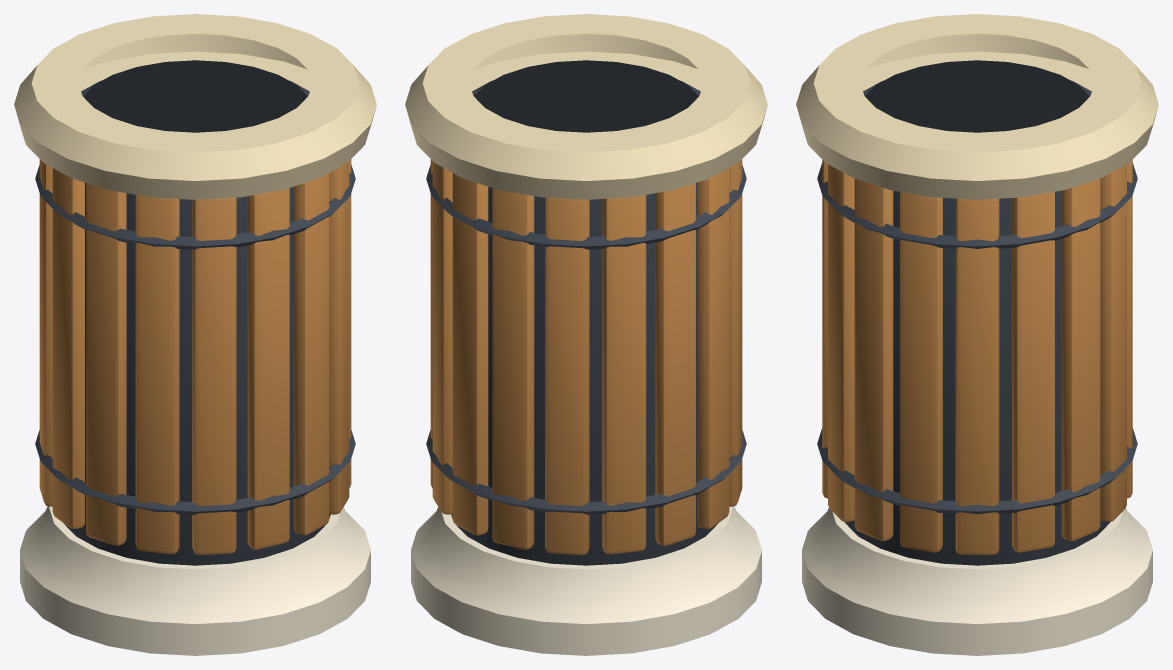
The model's file is lixeira_calcadao.glb.
The picture shows the model from 3 angles, left to right: view 1: azimuth 30°, elevation 25°; view 2: azimuth 150°, elevation 25°; view 3: azimuth 270°, elevation 25°; orthographic projection.
Parts seen in each view (by area): view 1: lixeira_calcadao; view 2: lixeira_calcadao; view 3: lixeira_calcadao.
Part boxes in pixels (left/top/right/bottom): lixeira_calcadao: left=14, top=14, right=376, bottom=655; lixeira_calcadao: left=405, top=14, right=767, bottom=655; lixeira_calcadao: left=796, top=14, right=1158, bottom=655.
Size of the model in its own units: 0.62 by 0.94 by 0.62.
1 material, 1 textured.
